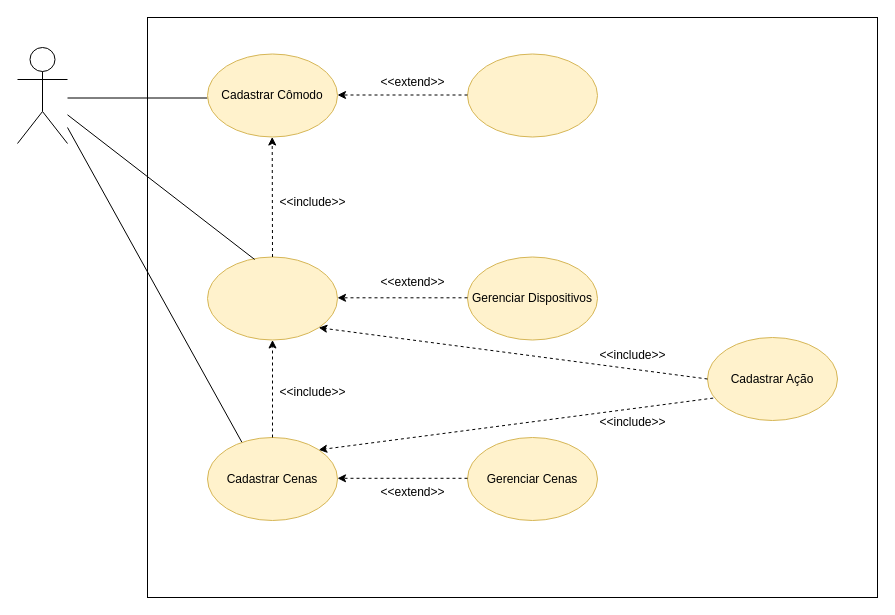
Image size: 895x615. Some labels were removed from this diagram. The shapes that lost their labels are listed below. From the top down, each one's centre as x and y in pixels, then its label:
point (42, 95): Usuário
point (532, 95): Gerenciar Cômodo
point (272, 298): Cadastrar Dispositivo
